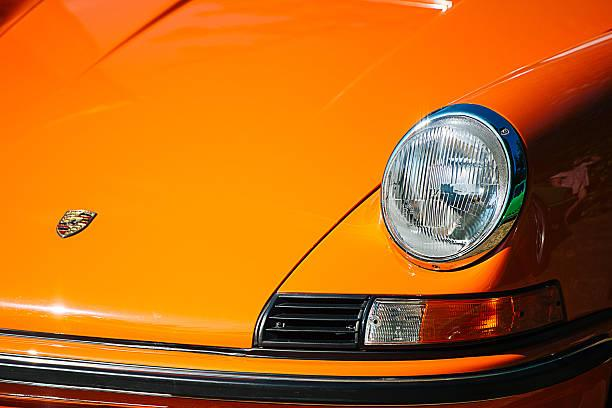porsche: (54, 200, 102, 241)
